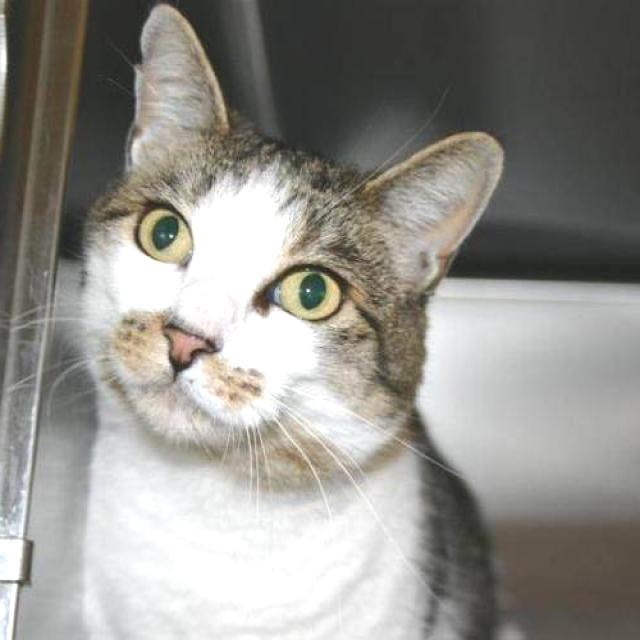Kucing: (31, 2, 536, 630)
